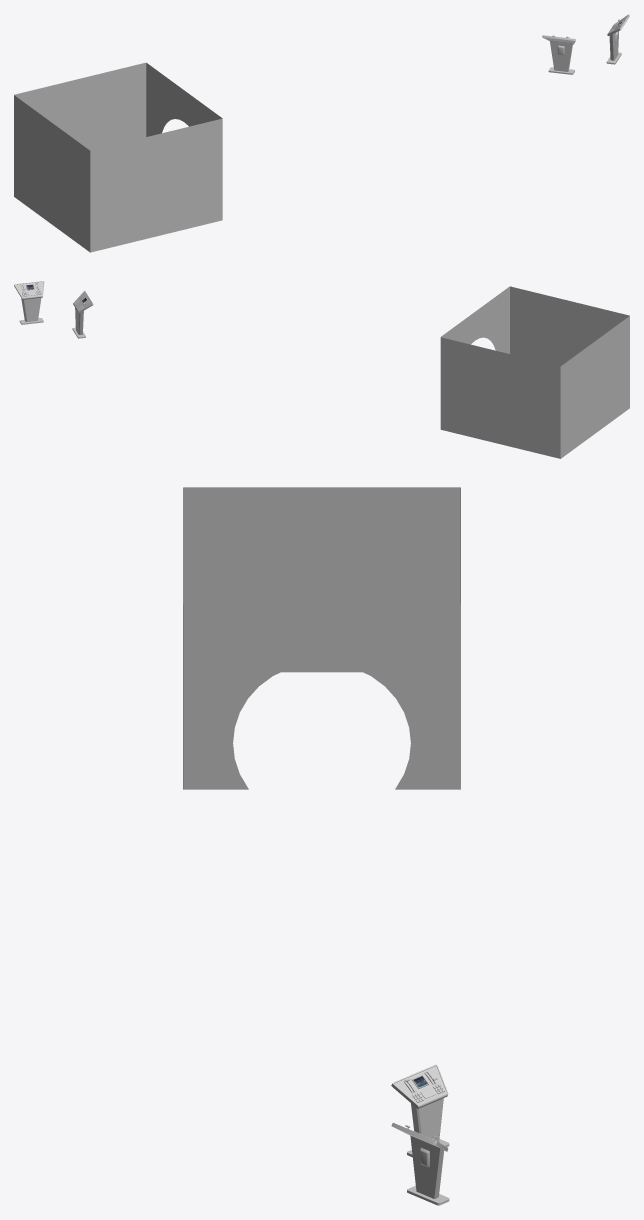
File: kapiento inside1.fbx
3 renders of one model, top to bottom at view 1: azimuth 30°, elevation 25°; view 2: azimuth 150°, elevation 25°; view 3: azimuth 270°, elevation 25°, orthographic. The views are drawn at different scales.
Parts seen in each view (by area): view 1: boris office walls, console.001; view 2: boris office walls, console.001; view 3: boris office walls, console.001.
Boxes of the visible parts, x1,y1,x2,y2 form: boris office walls: (14, 62, 222, 252); console.001: (542, 14, 629, 74); boris office walls: (440, 286, 629, 458); console.001: (14, 281, 93, 338); boris office walls: (183, 487, 460, 789); console.001: (391, 1065, 449, 1205).
Bounding box in the file's own units: 2299 × 367 × 500.
